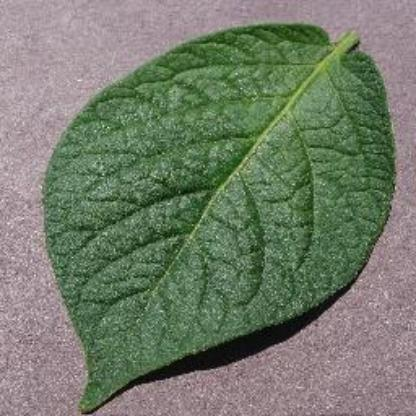Healthy-plant: (37, 17, 395, 415)
